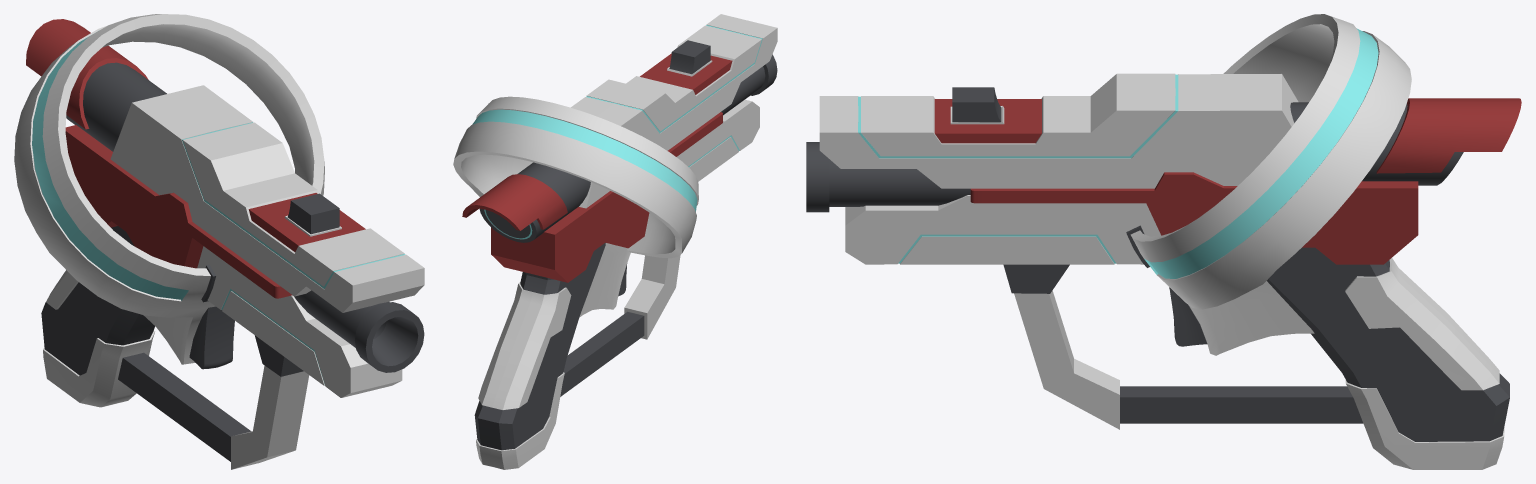
Rendered from LaserPistol.fbx.
3 views of the same model, side by side, from view 1: azimuth 30°, elevation 25°; view 2: azimuth 150°, elevation 25°; view 3: azimuth 270°, elevation 25° (orthographic). The views are drawn at different scales.
Visible parts, largest first — view 1: LaserPistol; view 2: LaserPistol; view 3: LaserPistol.
Part boxes in pixels (x1,y1,x2,y2): LaserPistol: (14, 14, 424, 469); LaserPistol: (453, 14, 777, 469); LaserPistol: (806, 14, 1521, 469).
Bounding box in the file's own units: 9.51 × 13.45 × 20.53.
